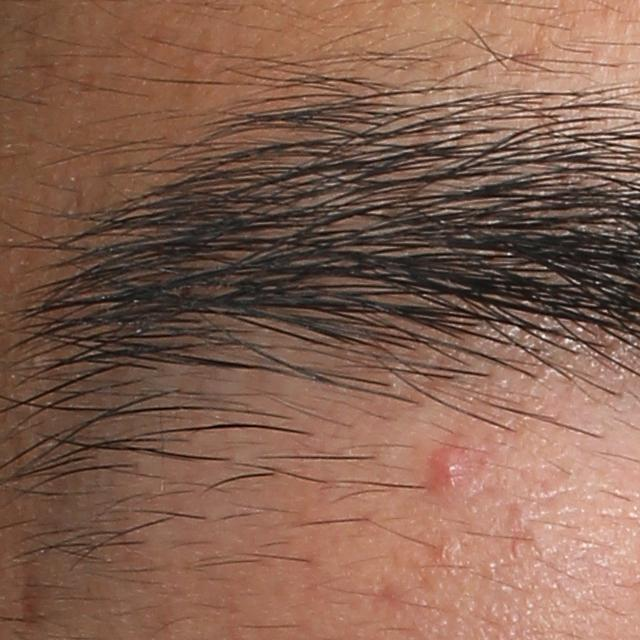papule: (425, 447, 470, 492)
